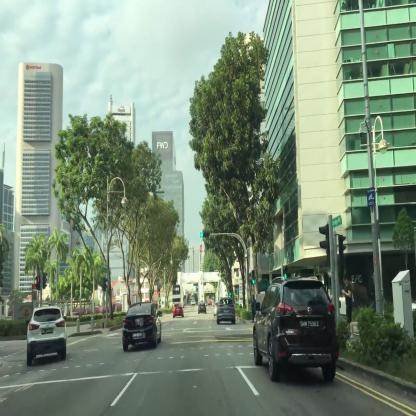green_traffic_light: (252, 270, 255, 284), (200, 232, 208, 236)
